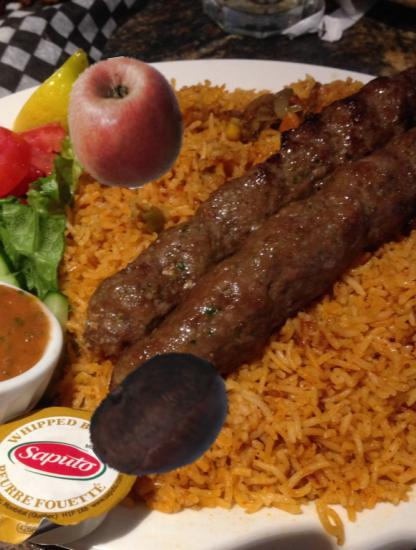Apple: (59, 56, 193, 190)
Chestnut: (86, 344, 235, 493)
